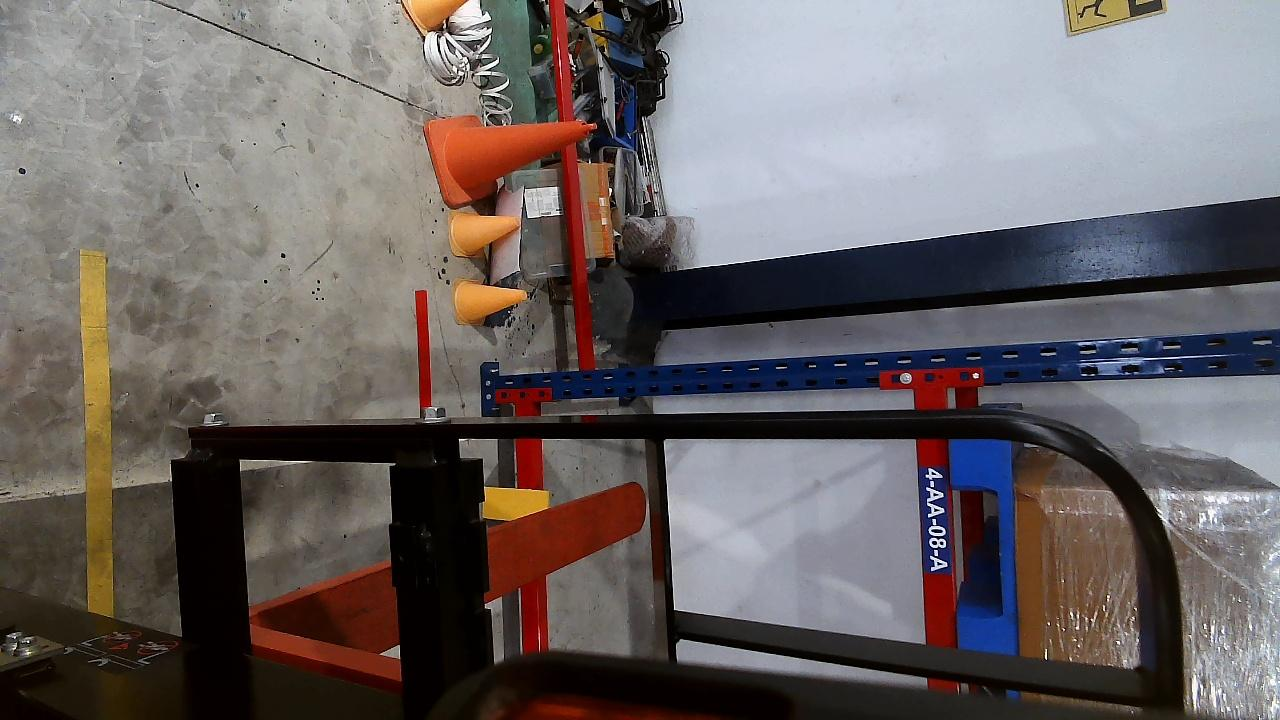h_rack: (512, 405, 555, 649), (911, 388, 950, 648)
orange_strip: (480, 487, 549, 520)
red_line: (413, 290, 435, 413)
small_pallet: (947, 441, 1022, 652)
yellow_line: (79, 249, 113, 617)
